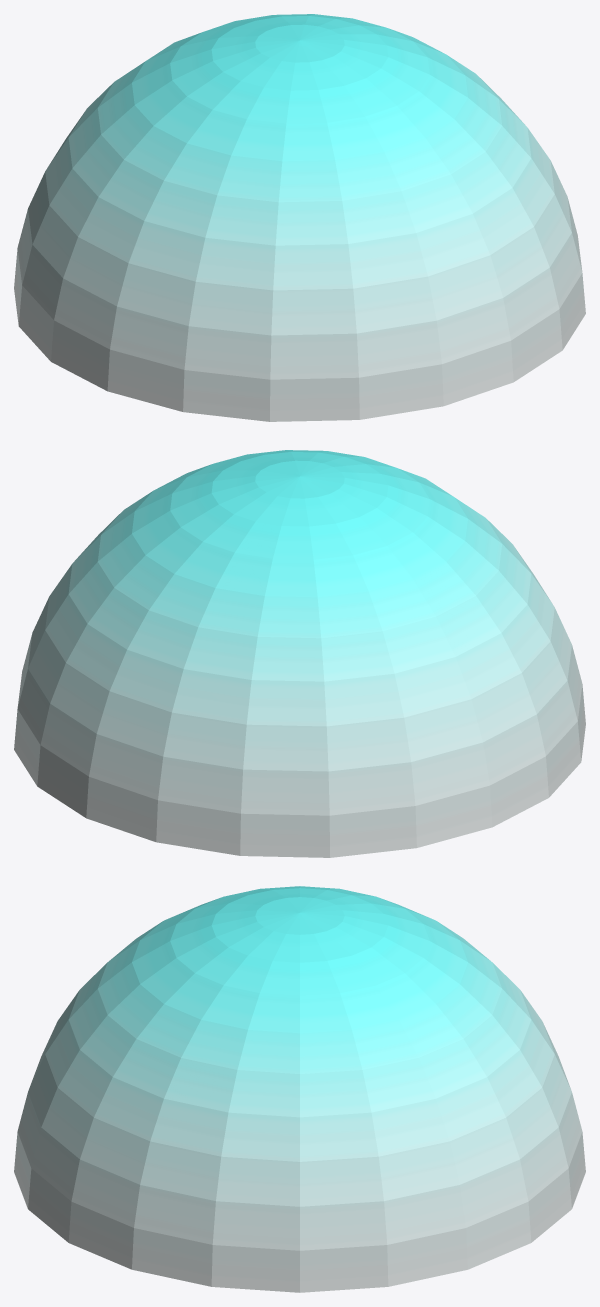
File: Super_Training_Stage.gltf
3 renders of one model, top to bottom at view 1: azimuth 30°, elevation 25°; view 2: azimuth 150°, elevation 25°; view 3: azimuth 270°, elevation 25°, orthographic.
Visible parts, largest first — view 1: sky; view 2: sky; view 3: sky.
Boxes of the visible parts, bbox=[...] form: sky: bbox=[14, 14, 585, 421]; sky: bbox=[14, 450, 585, 857]; sky: bbox=[14, 886, 585, 1292].
Bounding box in the file's own units: 41.48 × 20.95 × 41.48.
10 materials, 10 textured.
